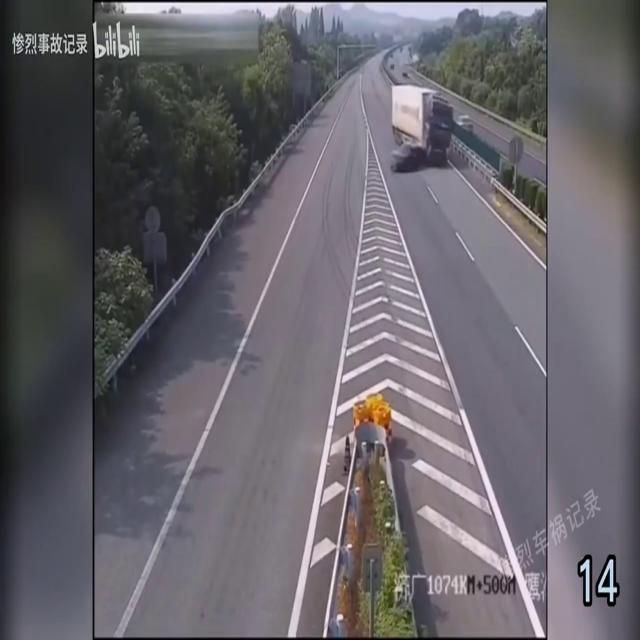accident: (387, 84, 453, 174)
